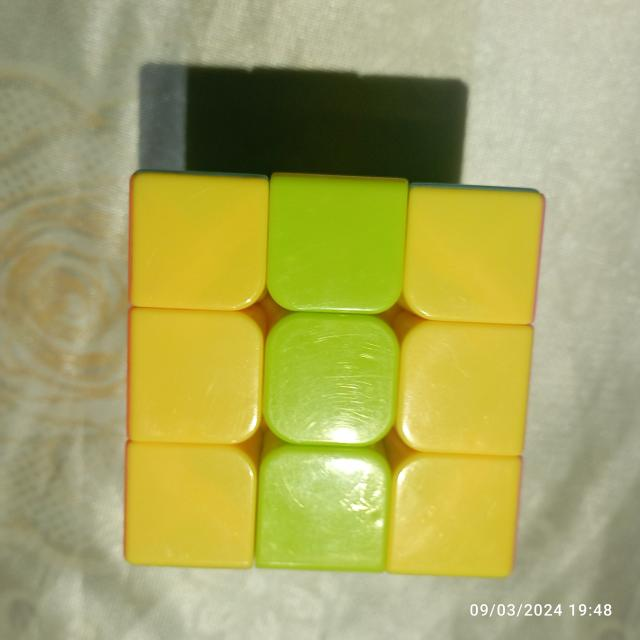Rub: (112, 159, 552, 587)
